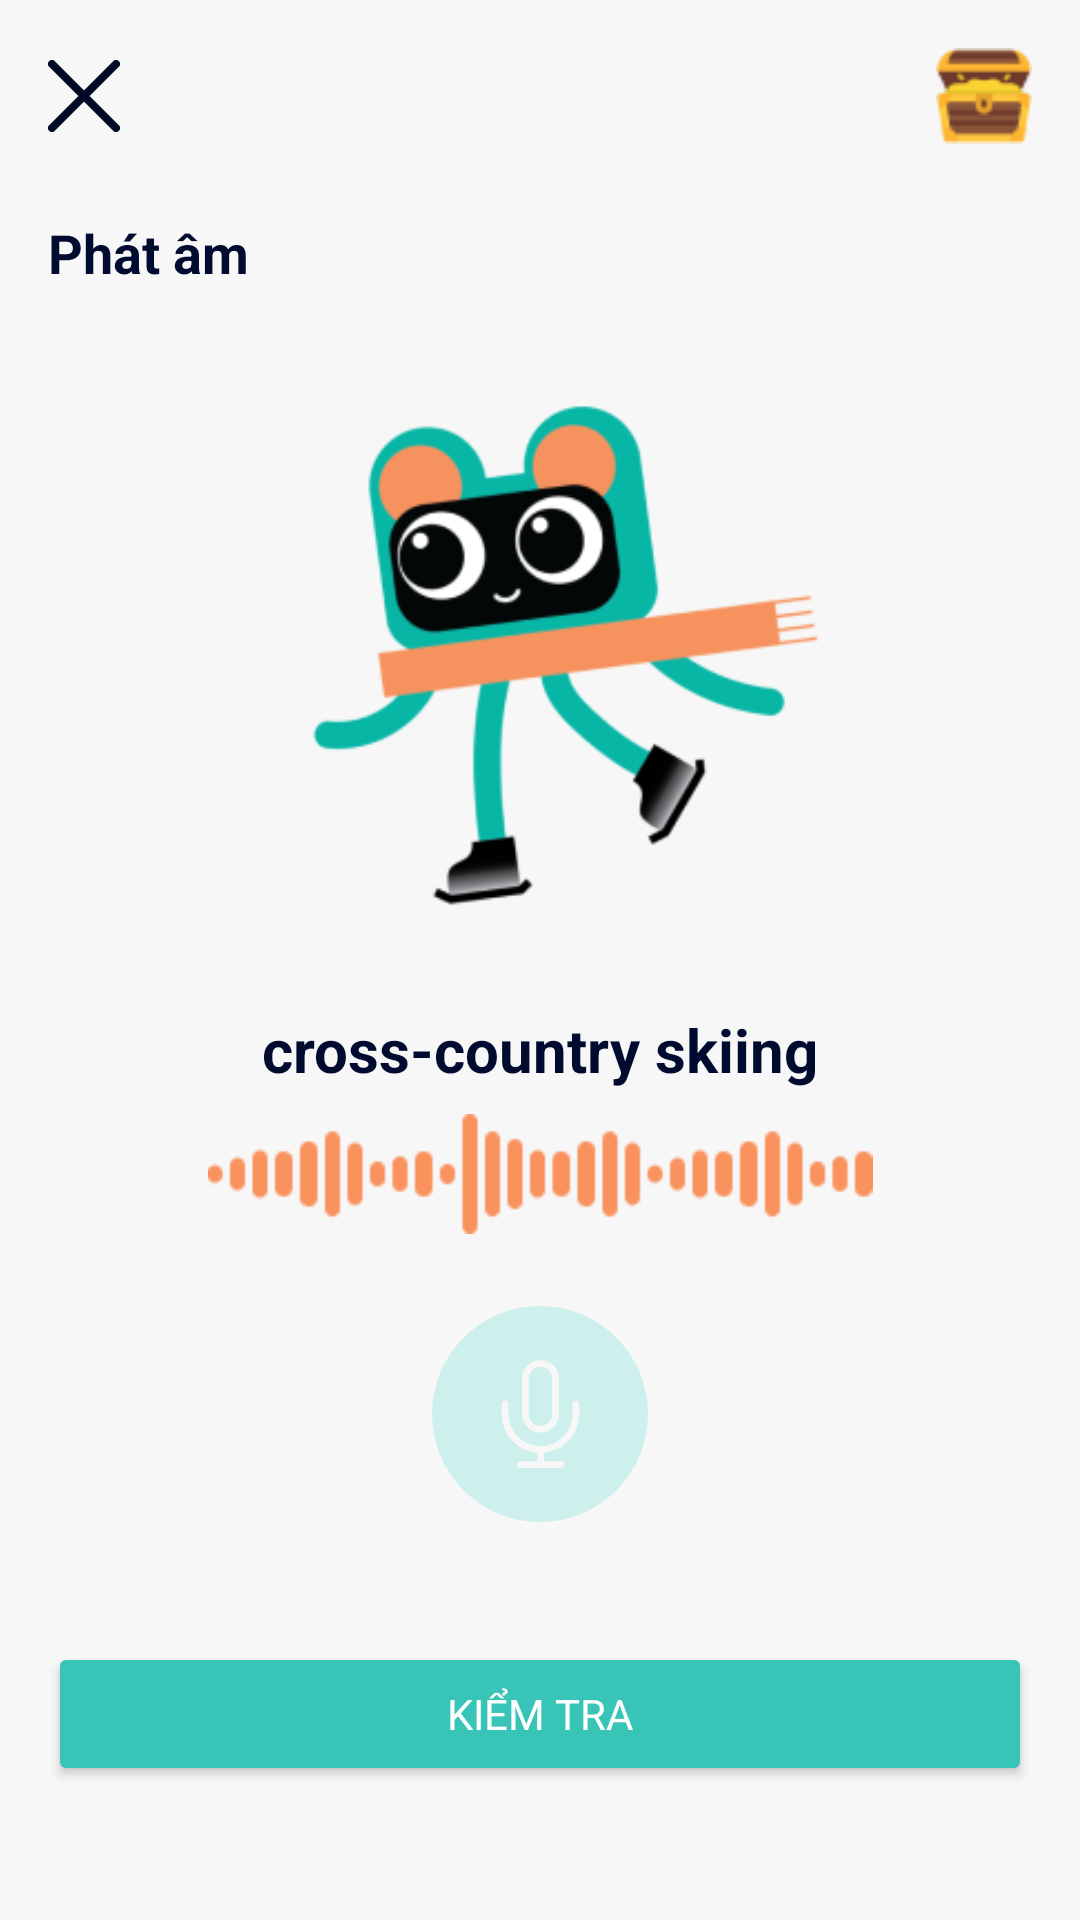

Locate icon controls on the screen. Image size 1080w x 1920h, boxes as (x1, y1, x2, y2).
Microphone Icon: (502, 1360, 579, 1468)
Treasure Icon: (936, 48, 1032, 144)
